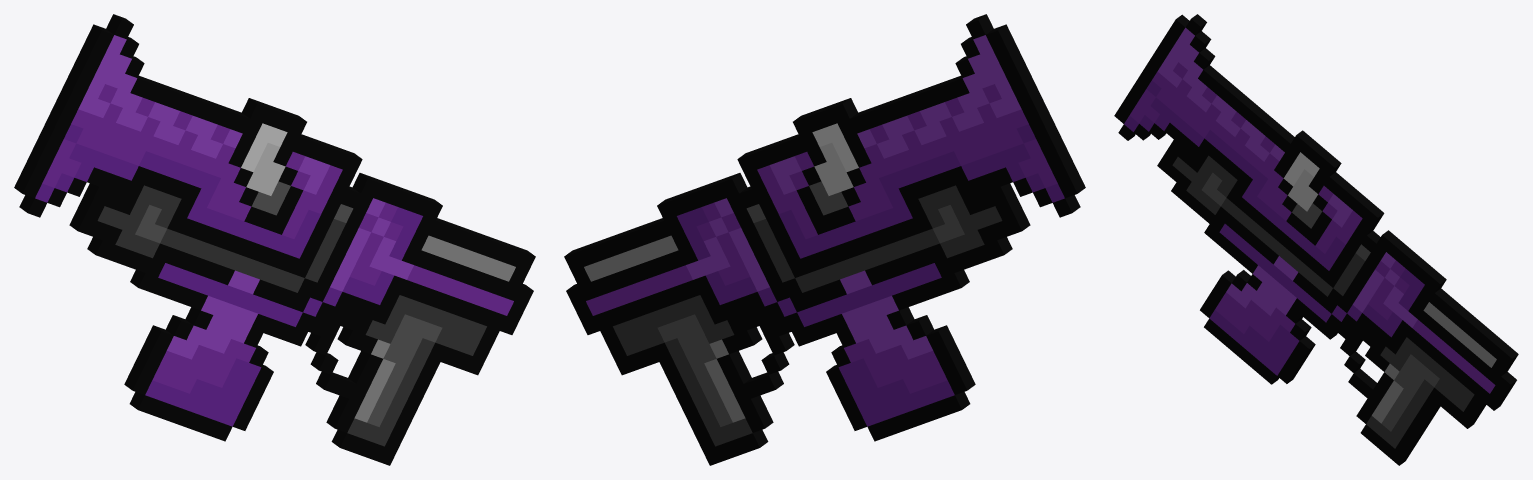
File: Purple Heavy Paintball Gun.glb
3 renders of one model, left to right at view 1: azimuth 30°, elevation 25°; view 2: azimuth 150°, elevation 25°; view 3: azimuth 330°, elevation 25°, orthographic. The views are drawn at different scales.
Parts seen in each view (by area): view 1: Untitled; view 2: Untitled; view 3: Untitled.
Part boxes in pixels (left/top/right/bottom): Untitled: left=14, top=14, right=535, bottom=465; Untitled: left=564, top=14, right=1085, bottom=465; Untitled: left=1114, top=14, right=1518, bottom=465.
Bounding box in the file's own units: 14.22 × 13.53 × 0.4.
1 material, 1 textured.
